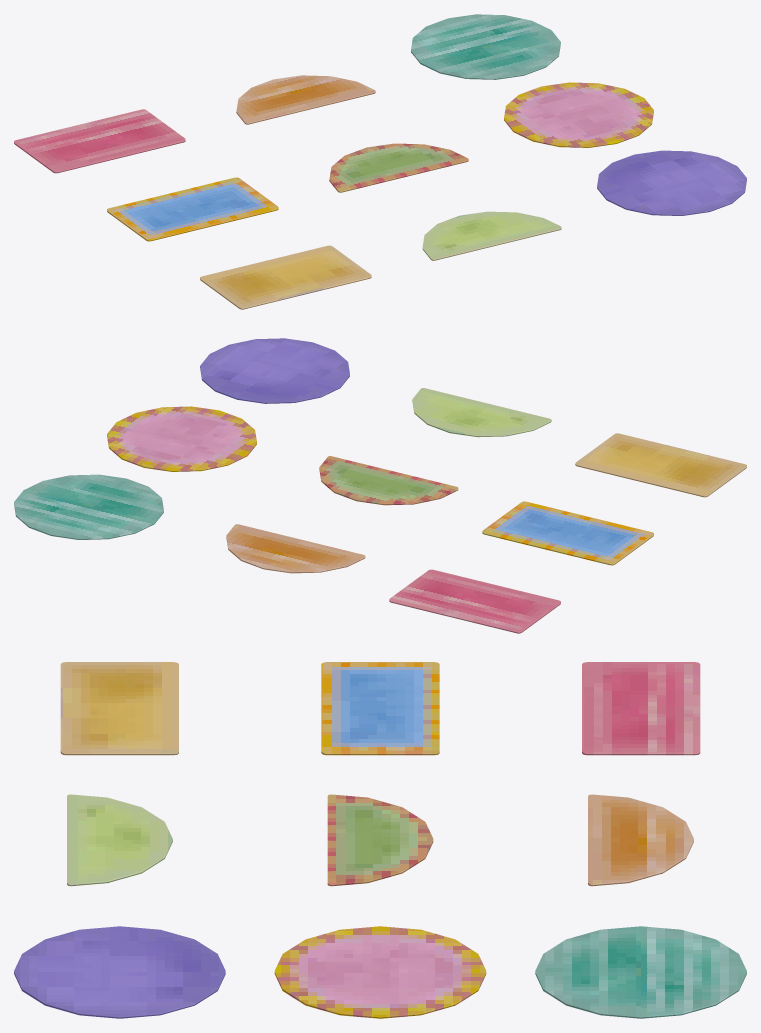
Rendered from a_com_house_a01_mat01.gltf.
3 views of the same model, one above another, from view 1: azimuth 30°, elevation 25°; view 2: azimuth 150°, elevation 25°; view 3: azimuth 270°, elevation 25° (orthographic). The views are drawn at different scales.
Parts seen in each view (by area): view 1: um_a_com_house_a01_mat01_model_a_com_house_a01_mat01_modelSh (×5); view 2: um_a_com_house_a01_mat01_model_a_com_house_a01_mat01_modelSh (×5); view 3: um_a_com_house_a01_mat01_model_a_com_house_a01_mat01_modelSh (×5).
Boxes of the visible parts, box(x1,y1,x2,y2) form: um_a_com_house_a01_mat01_model_a_com_house_a01_mat01_modelSh (×5): box(14, 14, 746, 309); um_a_com_house_a01_mat01_model_a_com_house_a01_mat01_modelSh (×5): box(14, 338, 746, 633); um_a_com_house_a01_mat01_model_a_com_house_a01_mat01_modelSh (×5): box(14, 662, 746, 1018).
Bounding box in the file's own units: 8.03 × 0.032 × 7.03.
Materials: 5 (5 with a texture image).
